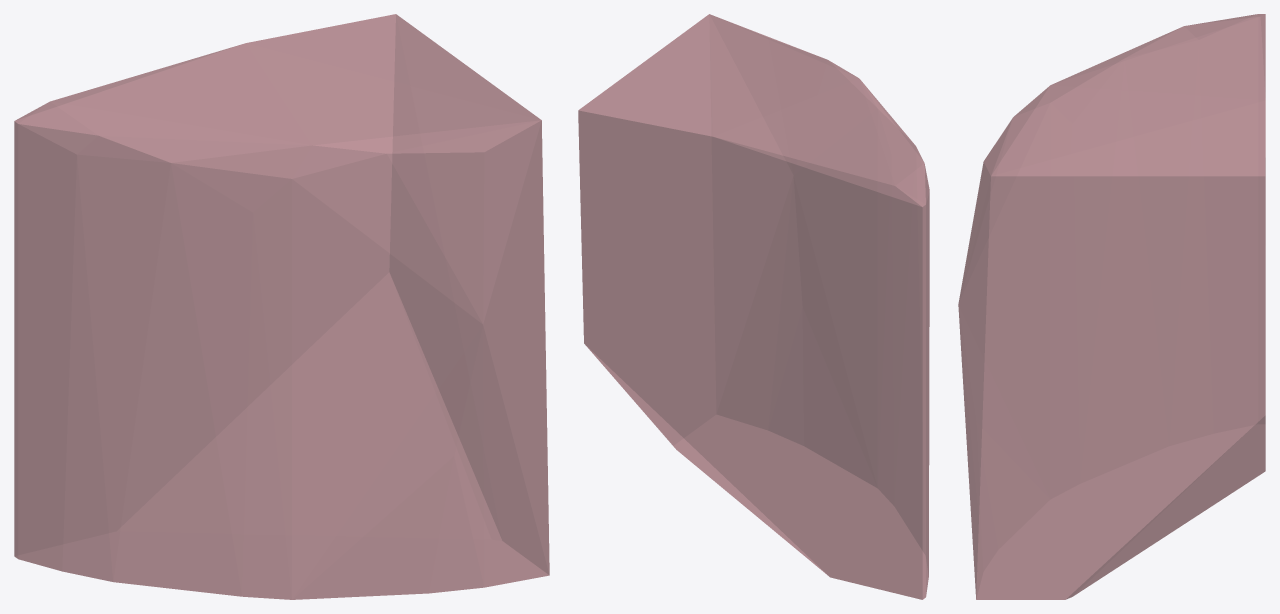
The picture shows the model from 3 angles, left to right: view 1: azimuth 30°, elevation 25°; view 2: azimuth 150°, elevation 25°; view 3: azimuth 270°, elevation 25°; orthographic projection. The views are drawn at different scales.
Visible parts, largest first — view 1: Shape_IndexedFaceSet.004_Shape_IndexedFaceSet.9090; view 2: Shape_IndexedFaceSet.004_Shape_IndexedFaceSet.9090; view 3: Shape_IndexedFaceSet.004_Shape_IndexedFaceSet.9090.
Part boxes in pixels (left/top/right/bottom): Shape_IndexedFaceSet.004_Shape_IndexedFaceSet.9090: left=14, top=14, right=549, bottom=599; Shape_IndexedFaceSet.004_Shape_IndexedFaceSet.9090: left=578, top=14, right=929, bottom=599; Shape_IndexedFaceSet.004_Shape_IndexedFaceSet.9090: left=958, top=14, right=1265, bottom=599.
Bounding box in the file's own units: 0.1679 × 0.1918 × 0.1241.
